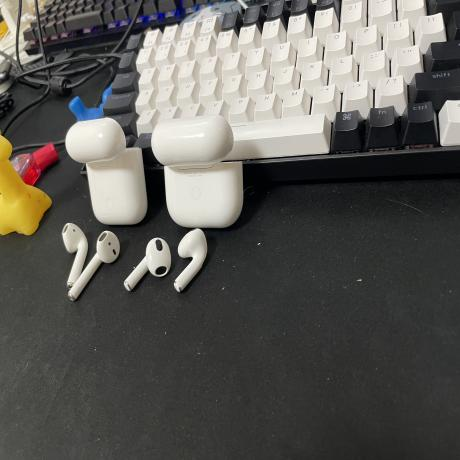airpod2: (45, 116, 150, 309)
airpod3: (121, 114, 244, 302)
